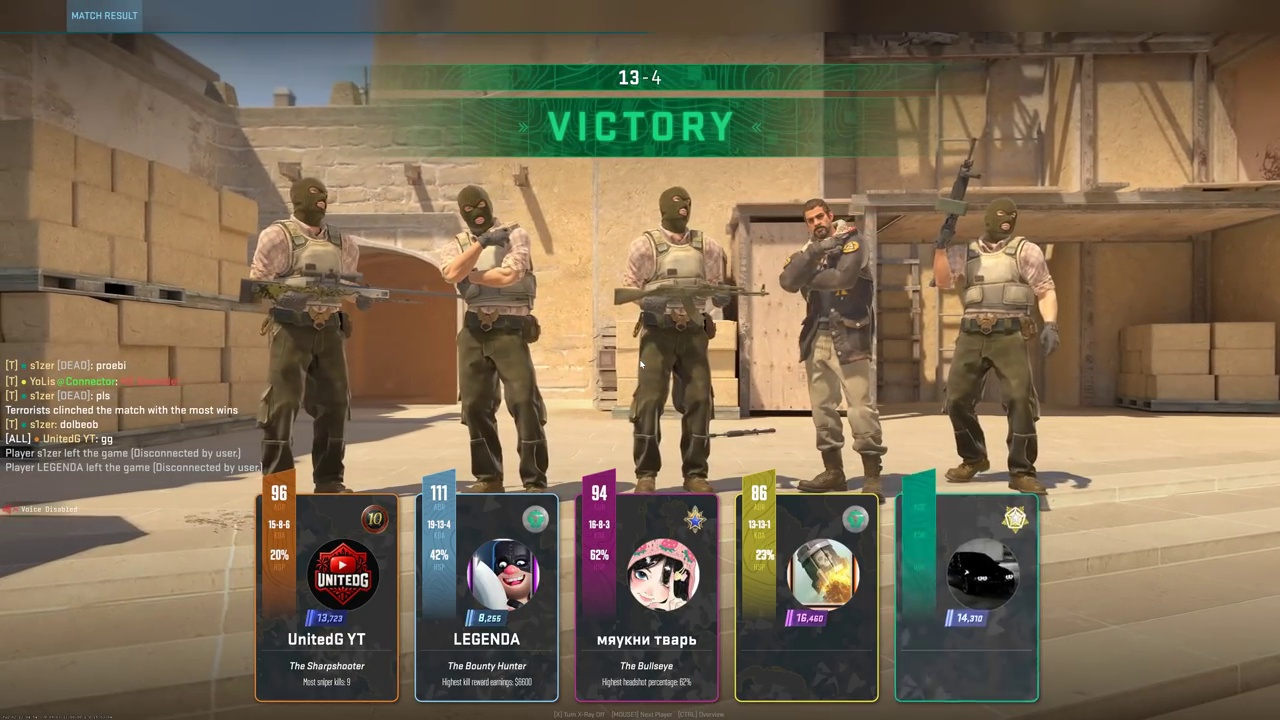Terrorist: (251, 178, 352, 494), (451, 186, 552, 489), (623, 187, 723, 491), (950, 198, 1049, 487), (788, 199, 881, 492)
